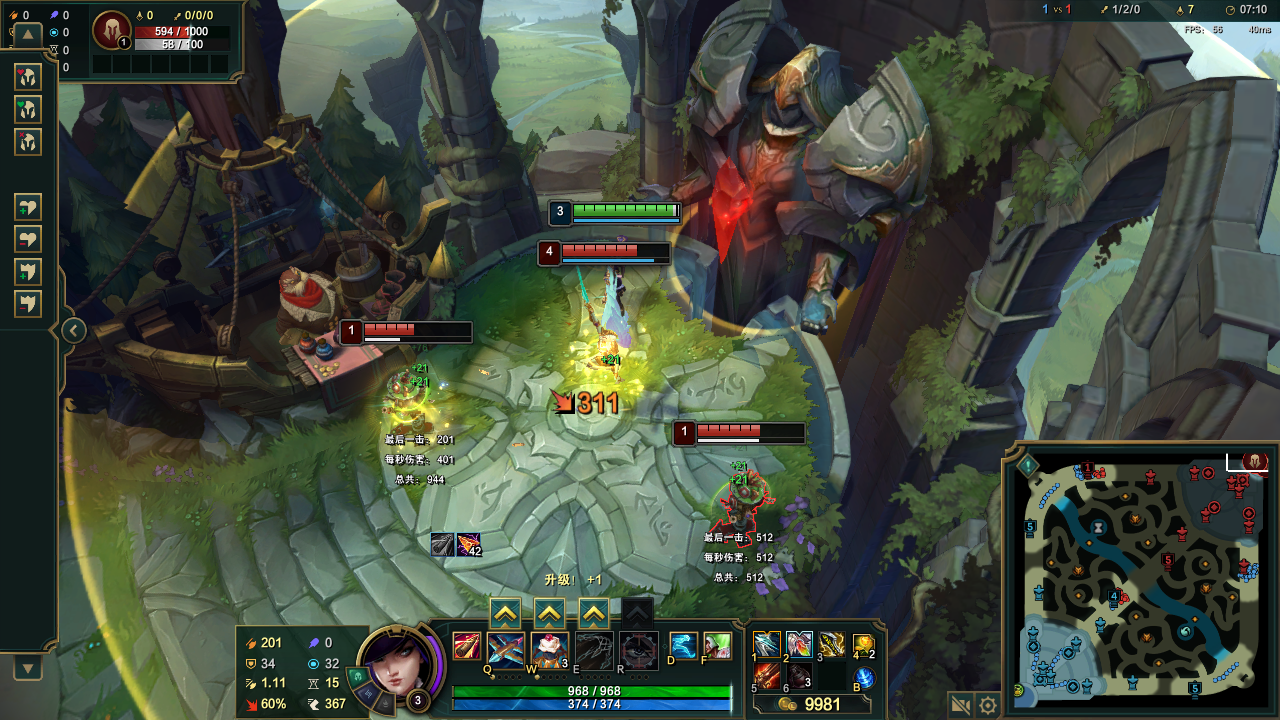DFYX: (691, 420, 808, 434), (363, 322, 476, 336), (559, 244, 667, 256)
